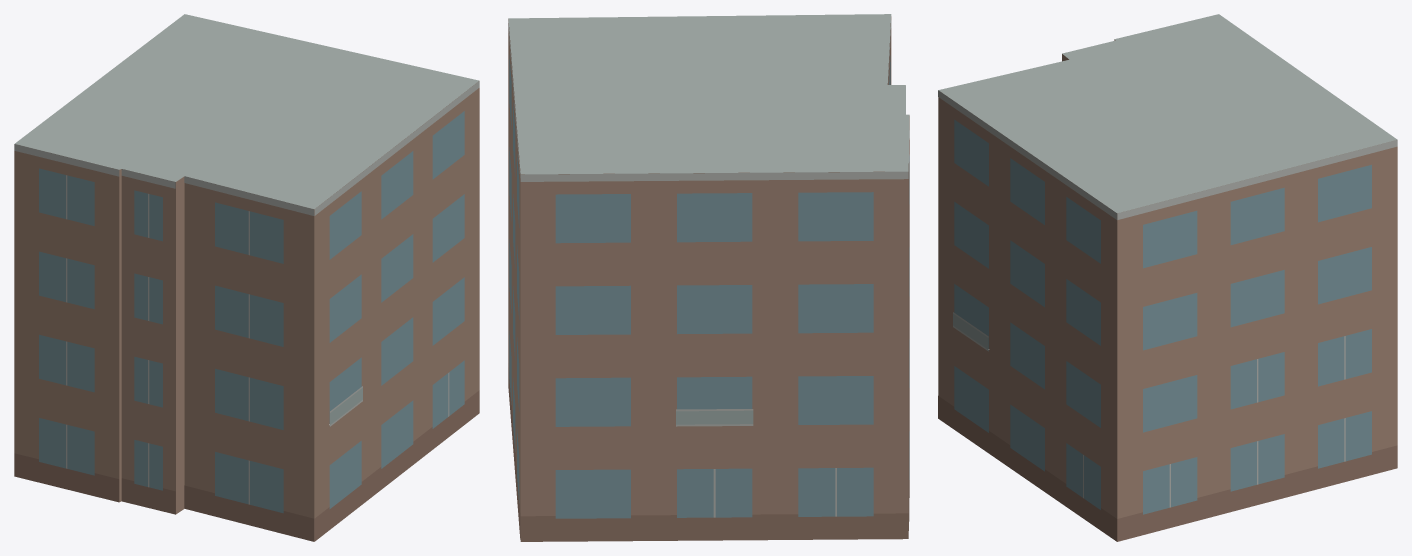
Rendered from survey-upis-32628165.glb.
3 renders of one model, left to right at view 1: azimuth 30°, elevation 25°; view 2: azimuth 150°, elevation 25°; view 3: azimuth 270°, elevation 25°, orthographic. The views are drawn at different scales.
Visible parts, largest first — view 1: survey-upis-32628165.tmp; view 2: survey-upis-32628165.tmp; view 3: survey-upis-32628165.tmp.
Boxes of the visible parts, left/top/right/bottom form: survey-upis-32628165.tmp: left=14, top=14, right=479, bottom=541; survey-upis-32628165.tmp: left=508, top=14, right=909, bottom=541; survey-upis-32628165.tmp: left=938, top=14, right=1397, bottom=541.
Size of the model in its own units: 15.37 by 11.8 by 14.97.
